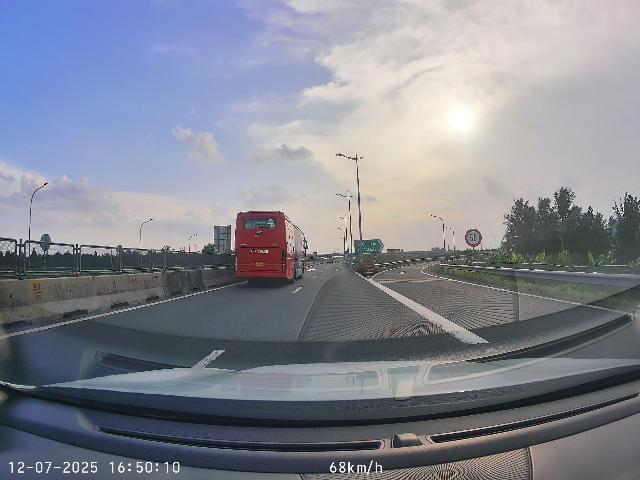127-toc-do-toi-da-50: (465, 228, 482, 247)
